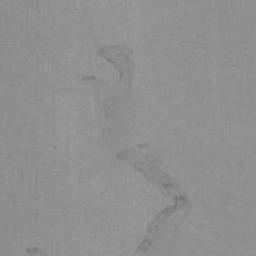Water spot: (79, 42, 200, 256), (24, 244, 56, 256)
